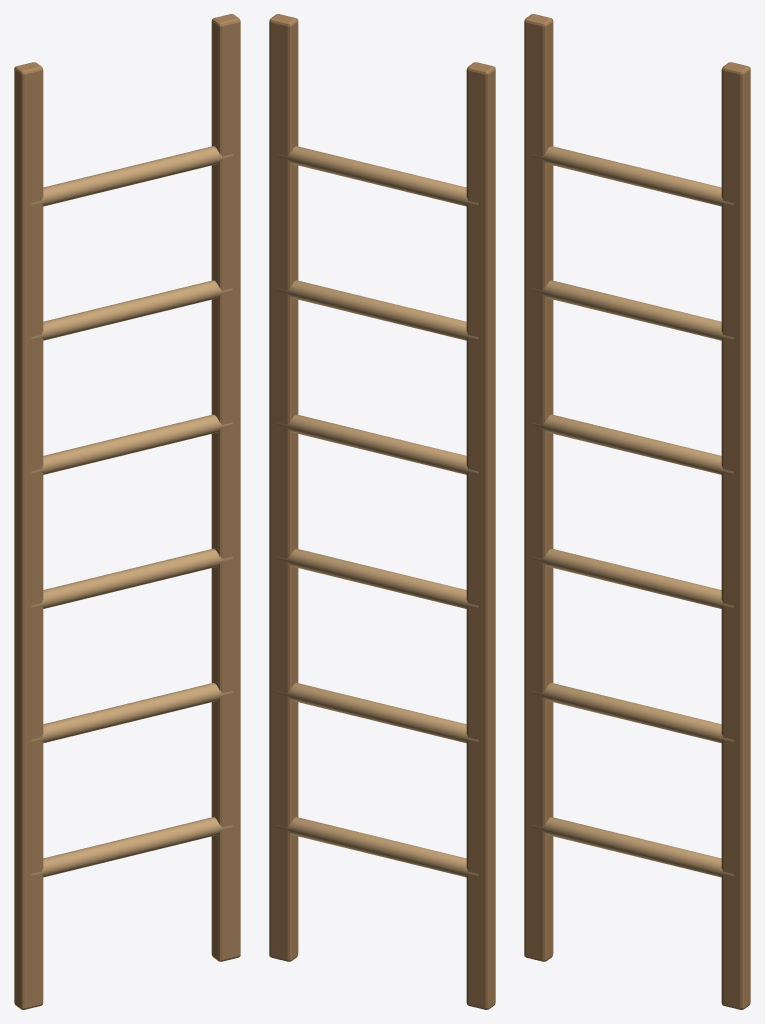
File: ladder.glb
3 views of the same model, side by side, from view 1: azimuth 30°, elevation 25°; view 2: azimuth 150°, elevation 25°; view 3: azimuth 330°, elevation 25° (orthographic).
Parts seen in each view (by area): view 1: Ladder; view 2: Ladder; view 3: Ladder.
Part boxes in pixels (x1=…): Ladder: x1=14, y1=14, x2=240, y2=1009; Ladder: x1=269, y1=14, x2=495, y2=1009; Ladder: x1=524, y1=14, x2=750, y2=1009.
Bounding box in the file's own units: 0.49 × 2 × 0.036.
